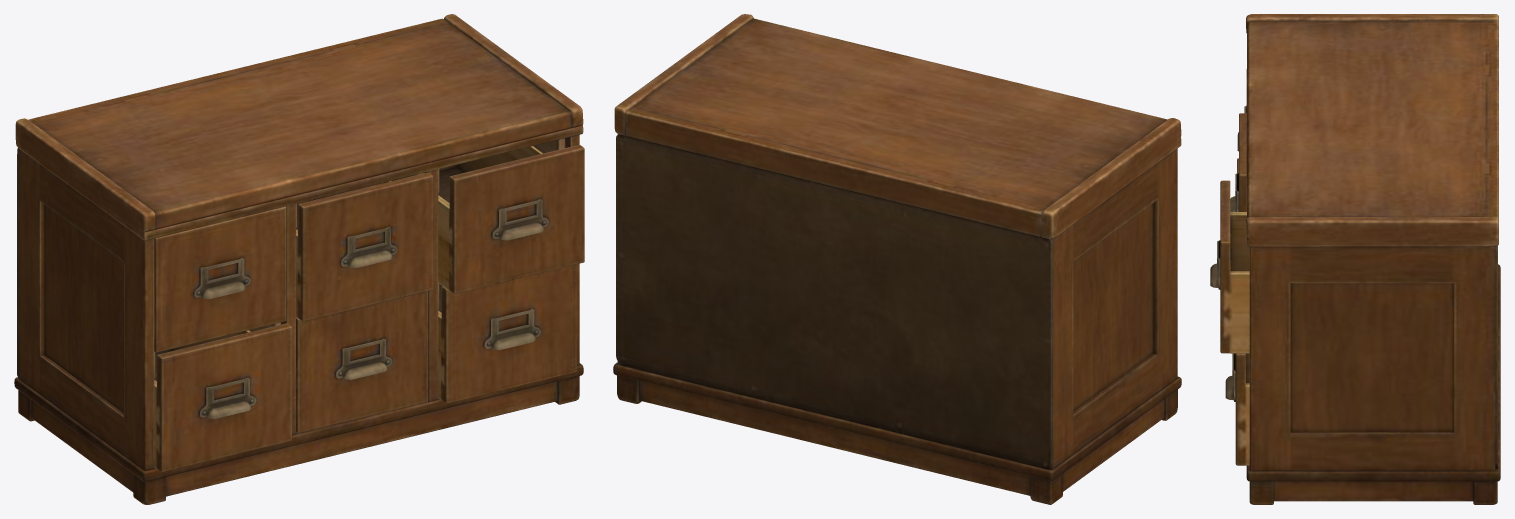
File: drawer.glb
The picture shows the model from 3 angles, left to right: view 1: azimuth 30°, elevation 25°; view 2: azimuth 150°, elevation 25°; view 3: azimuth 270°, elevation 25°; orthographic projection. The views are drawn at different scales.
Visible parts, largest first — view 1: vintage_wooden_drawer_01_body, vintage_wooden_drawer_01_drawer03, vintage_wooden_drawer_01_drawer04, vintage_wooden_drawer_01_drawer02, vintage_wooden_drawer_01_drawer01, vintage_wooden_drawer_01_drawer06, vintage_wooden_drawer_01_drawer05; view 2: vintage_wooden_drawer_01_body; view 3: vintage_wooden_drawer_01_body, vintage_wooden_drawer_01_drawer03, vintage_wooden_drawer_01_drawer06, vintage_wooden_drawer_01_drawer02.
Boxes of the visible parts, x1,y1,x2,y2 form: vintage_wooden_drawer_01_body: [14, 14, 583, 504]; vintage_wooden_drawer_01_drawer03: [438, 145, 584, 293]; vintage_wooden_drawer_01_drawer04: [154, 323, 291, 472]; vintage_wooden_drawer_01_drawer02: [296, 172, 433, 321]; vintage_wooden_drawer_01_drawer01: [154, 206, 286, 352]; vintage_wooden_drawer_01_drawer06: [438, 264, 576, 403]; vintage_wooden_drawer_01_drawer05: [296, 291, 428, 433]; vintage_wooden_drawer_01_body: [613, 14, 1181, 504]; vintage_wooden_drawer_01_body: [1246, 14, 1500, 504]; vintage_wooden_drawer_01_drawer03: [1210, 180, 1249, 353]; vintage_wooden_drawer_01_drawer06: [1225, 353, 1249, 465]; vintage_wooden_drawer_01_drawer02: [1230, 113, 1246, 211].
Size of the model in its own units: 1.72 by 1.09 by 1.01.
Materials: 1 (1 with a texture image).
